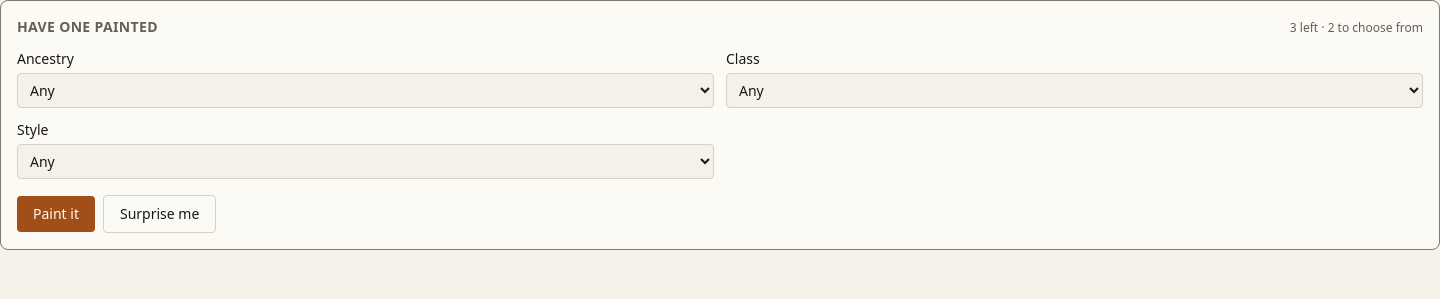
Test: PortraitBuilder › says a failed job did not come out, rather than blaming the host
Expected: the dropdown labelled "Ancestry" is shown, x1=17 y1=73 x2=714 y2=108
Click the button "Paint it": coordinates (56, 214) x1=17 y1=196 x2=95 y2=232
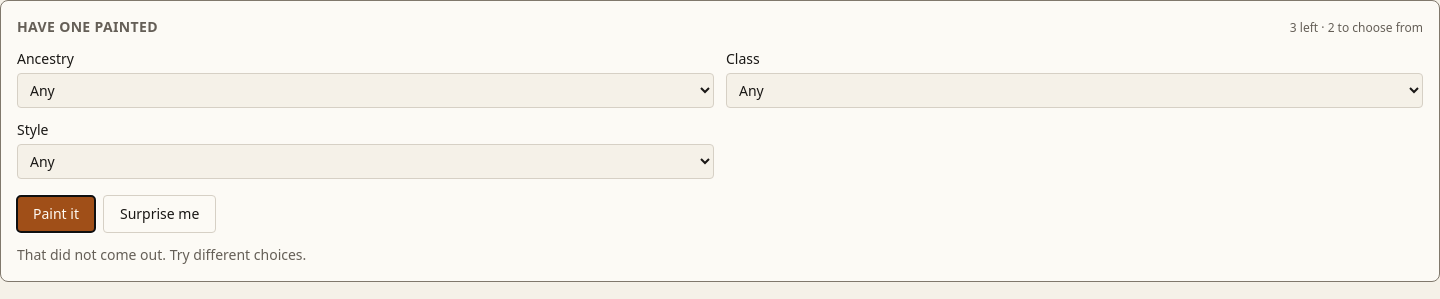
Now the message shows "Try different choices", box x1=17 y1=245 x2=306 y2=264
